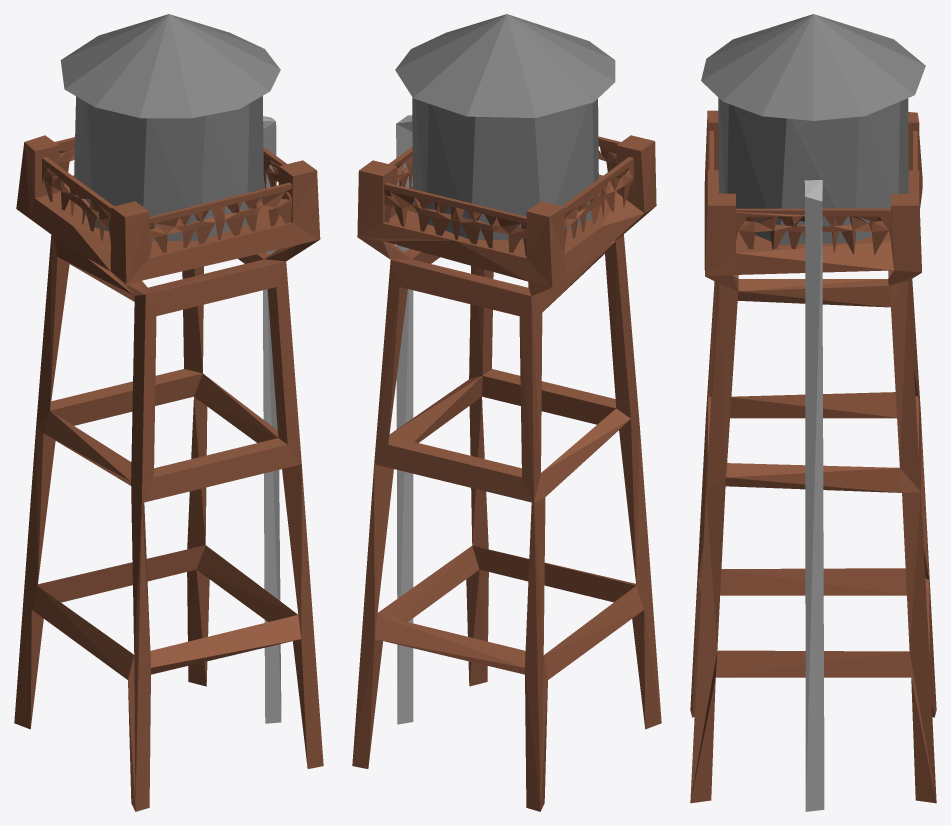
File: WaterTower.lod1.glb
3 views of the same model, side by side, from view 1: azimuth 30°, elevation 25°; view 2: azimuth 150°, elevation 25°; view 3: azimuth 270°, elevation 25° (orthographic).
Visible parts, largest first — view 1: WaterTower; view 2: WaterTower; view 3: WaterTower.
Part boxes in pixels (left/top/right/bottom): WaterTower: left=14, top=14, right=323, bottom=811; WaterTower: left=352, top=14, right=661, bottom=811; WaterTower: left=690, top=14, right=936, bottom=811.
Size of the model in its own units: 2.5 by 8.43 by 2.53.
